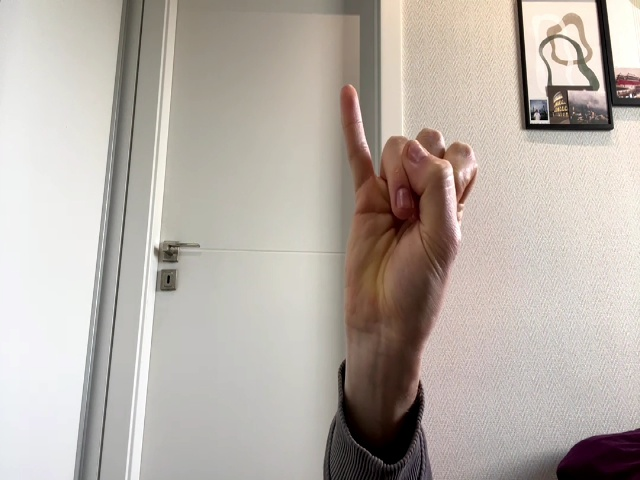I: (341, 85, 478, 338)
